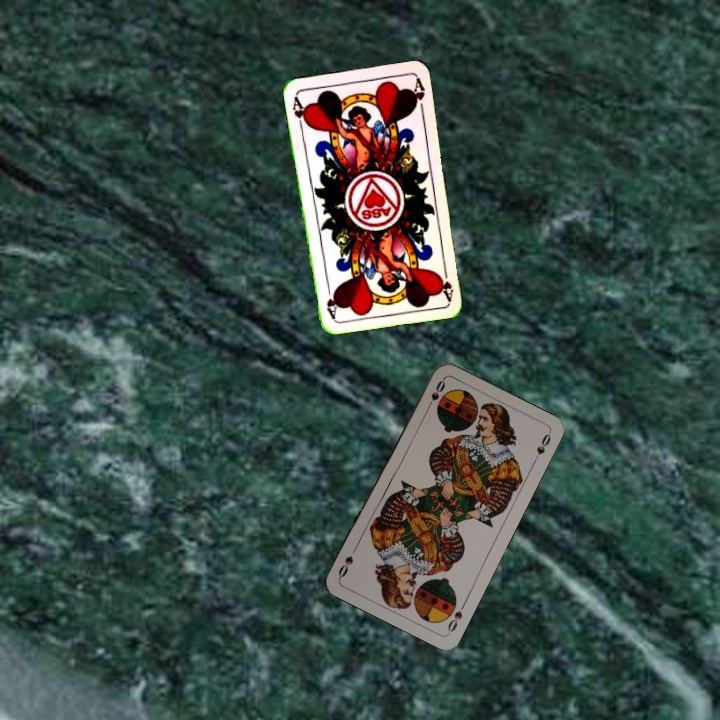HA: (288, 92, 311, 133), (434, 261, 456, 302)
SO: (422, 376, 448, 414), (444, 598, 468, 635)
